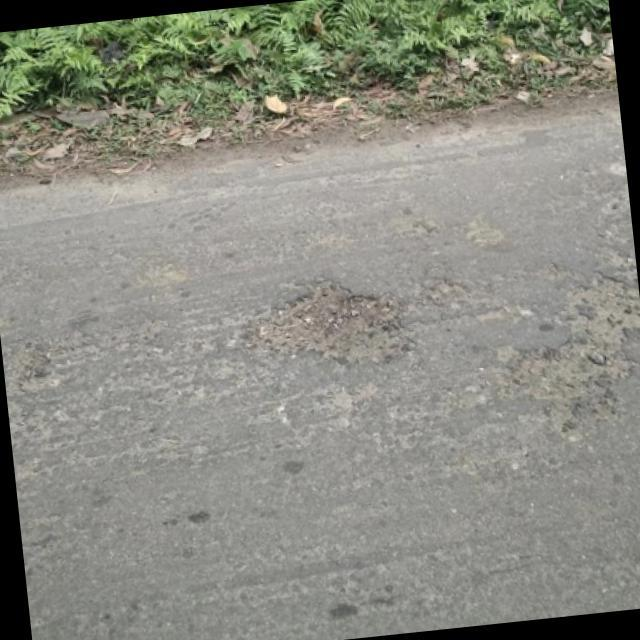Pothole: (247, 283, 408, 363)
